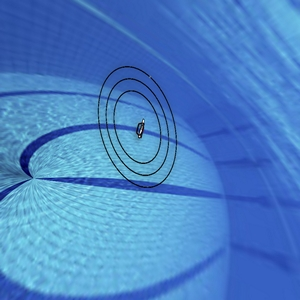circle: (87, 49, 187, 200)
submarine: (131, 113, 149, 142)
